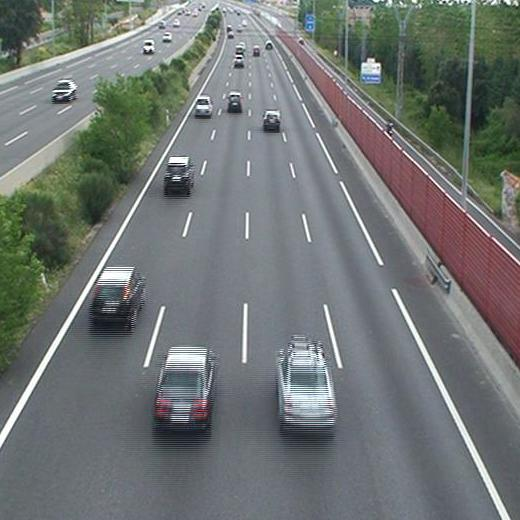car: (278, 350, 337, 427), (155, 348, 213, 424), (93, 268, 144, 321), (163, 157, 192, 191), (195, 97, 212, 116), (263, 111, 281, 128), (228, 92, 242, 111), (252, 46, 261, 58), (234, 56, 244, 65)
